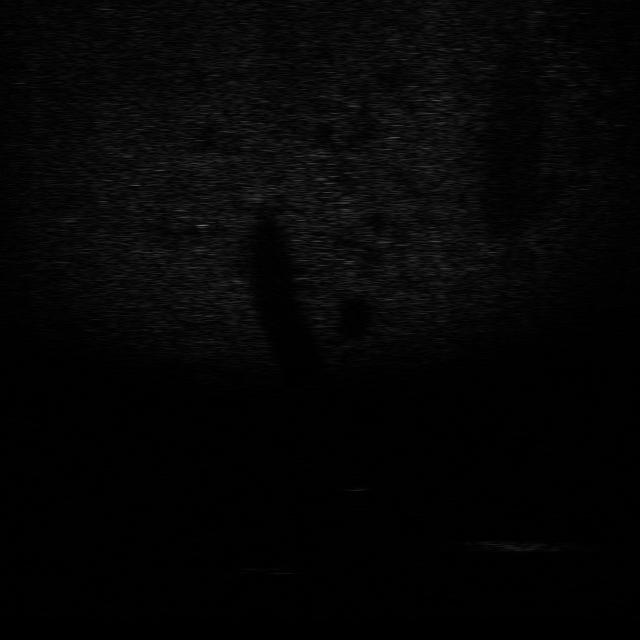ball: (330, 471, 376, 494)
metal bucket: (466, 532, 569, 556)
tyre: (242, 549, 314, 580)
